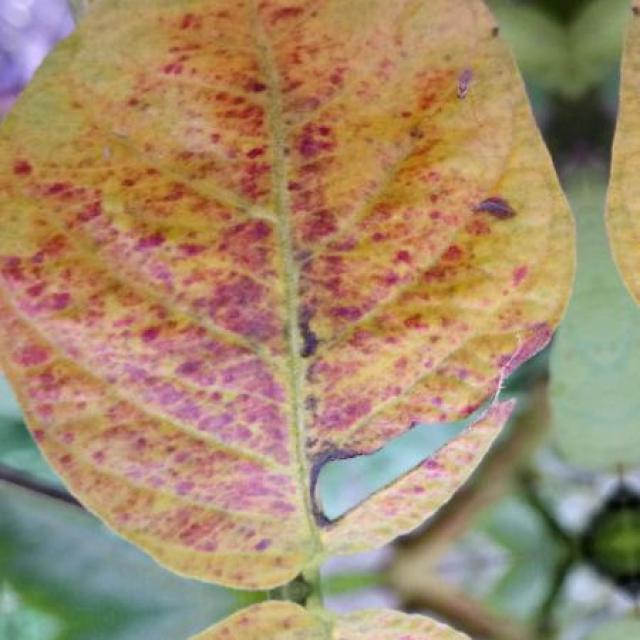Red Rust: (0, 0, 575, 589)
